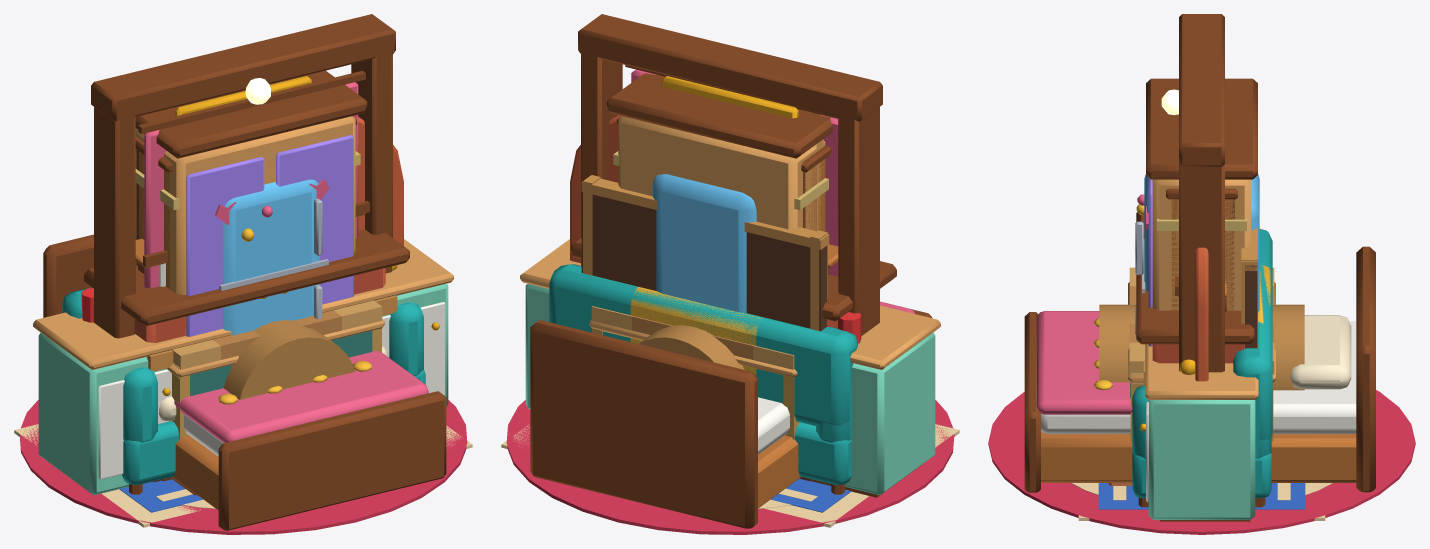
Rendered from house.glb.
The picture shows the model from 3 angles, left to right: view 1: azimuth 30°, elevation 25°; view 2: azimuth 150°, elevation 25°; view 3: azimuth 270°, elevation 25°; orthographic projection. The views are drawn at different scales.
Visible parts, largest first — view 1: bed, door_frame, wardrobe, counter, fridge, rug_round, fireplace, sofa, storage_chest, exchange_box, window, rug_rect (+6 smaller); view 2: bed, door_frame, wardrobe, sofa, counter, workbench, fridge, rug_round, rug_rect, armchair, exchange_box, window (+7 smaller); view 3: bed, counter, door_frame, rug_round, wardrobe, sofa, storage_chest, fireplace, rug_rect, door, fridge, bookshelf (+3 smaller).
Part boxes in pixels (box(x1,y1,x2,y2)): bed: box(43, 234, 446, 530); door_frame: box(91, 14, 395, 338); wardrobe: box(135, 70, 367, 336); counter: box(33, 239, 453, 495); fridge: box(219, 179, 328, 335); rug_round: box(19, 400, 467, 534); fireplace: box(84, 229, 409, 495); sofa: box(62, 287, 425, 494); storage_chest: box(223, 320, 354, 399); exchange_box: box(171, 300, 382, 439); window: box(138, 70, 365, 288); rug_rect: box(14, 424, 472, 527); bed: box(530, 301, 932, 528); door_frame: box(578, 14, 882, 335); wardrobe: box(606, 73, 832, 230); sofa: box(549, 264, 857, 494); counter: box(520, 239, 940, 497); workbench: box(581, 175, 829, 481); fridge: box(652, 174, 756, 312); rug_round: box(506, 400, 954, 534); rug_rect: box(501, 424, 959, 527); armchair: box(630, 287, 763, 376); exchange_box: box(591, 306, 799, 439); window: box(625, 65, 838, 276); bed: box(1024, 246, 1375, 492); counter: box(1139, 344, 1258, 521); door_frame: box(1161, 14, 1224, 372); rug_round: box(988, 390, 1415, 534); wardrobe: box(1146, 78, 1257, 346); sofa: box(1132, 229, 1272, 507); storage_chest: box(1099, 304, 1304, 390); fireplace: box(1108, 212, 1254, 486); rug_rect: box(1078, 483, 1325, 520); door: box(1179, 247, 1208, 381); fridge: box(1135, 174, 1259, 334); bookshelf: box(1166, 188, 1237, 310).
Bounding box in the file's own units: 2.6 × 2.46 × 2.6.
